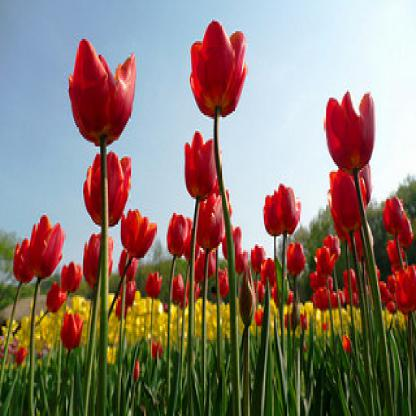TULIP: (46, 21, 404, 361)
